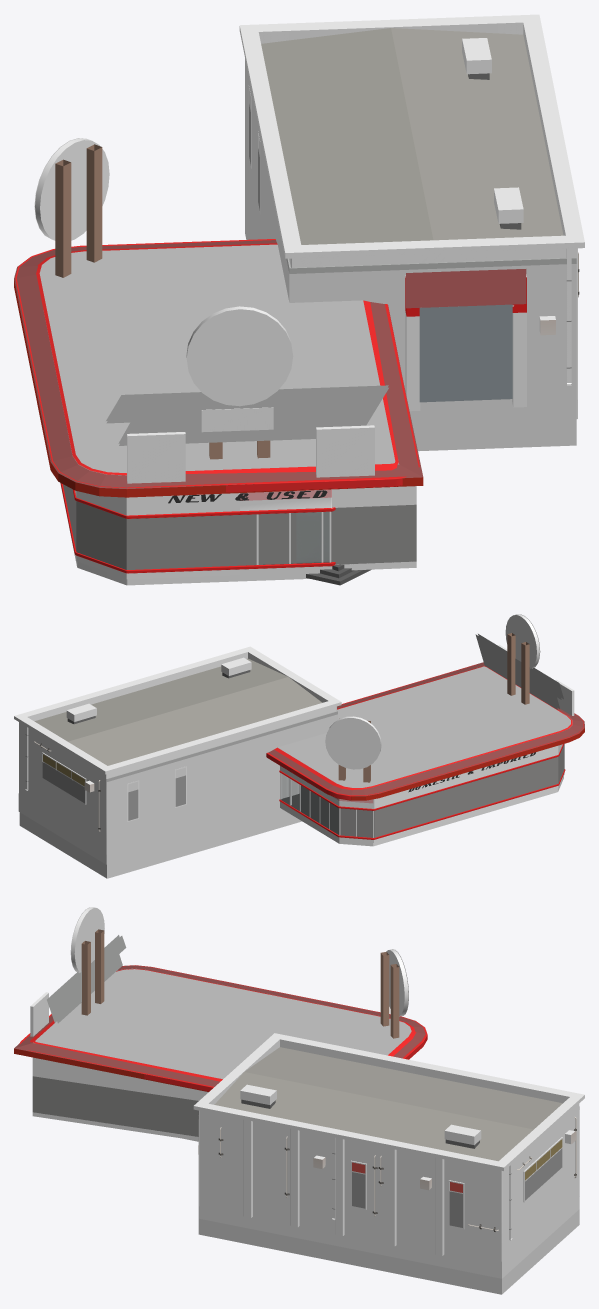
File: dealership_mid.dae
The picture shows the model from 3 angles, top to bottom: view 1: azimuth 30°, elevation 25°; view 2: azimuth 150°, elevation 25°; view 3: azimuth 270°, elevation 25°; orthographic projection. The views are drawn at different scales.
Visible parts, largest first — view 1: dealership_mid_a500, dealership_mid_a200; view 2: dealership_mid_a500, dealership_mid_a200; view 3: dealership_mid_a500, dealership_mid_a200.
Part boxes in pixels (bbox=[...]): dealership_mid_a500: bbox=[15, 14, 584, 585]; dealership_mid_a200: bbox=[14, 58, 576, 579]; dealership_mid_a500: bbox=[14, 614, 583, 864]; dealership_mid_a200: bbox=[19, 634, 584, 878]; dealership_mid_a500: bbox=[19, 907, 584, 1278]; dealership_mid_a200: bbox=[14, 935, 579, 1294].
Bounding box in the file's own units: 38.41 × 38.83 × 14.51.
